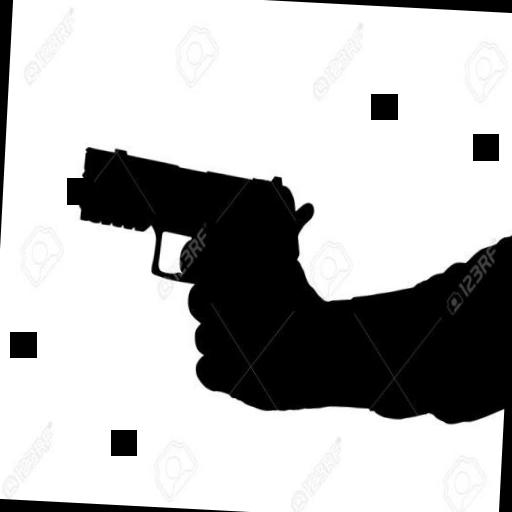Handgun: (72, 139, 316, 395)
